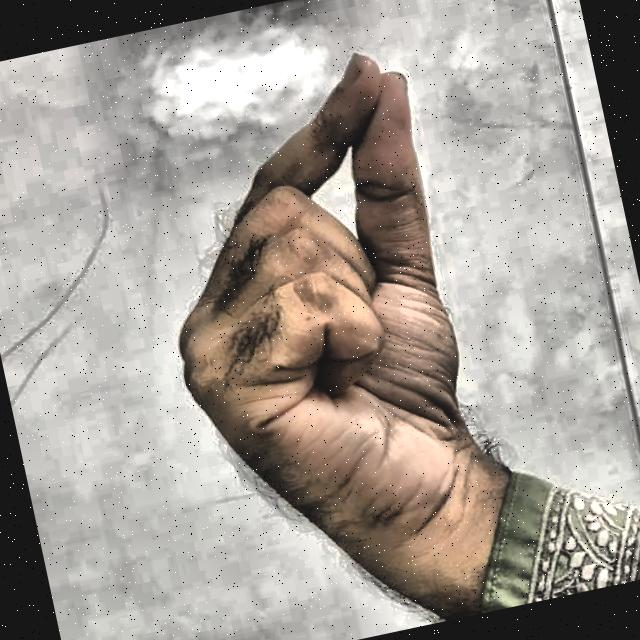Anusshar: (70, 0, 563, 618)
